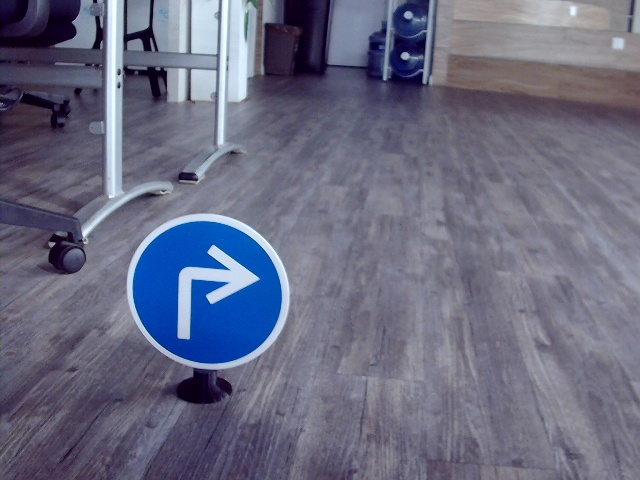turn_right: (171, 238, 258, 343)
